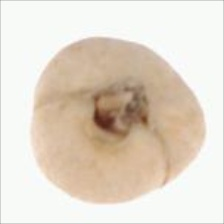L3: (91, 81, 151, 135)
L4: (30, 38, 206, 203)
